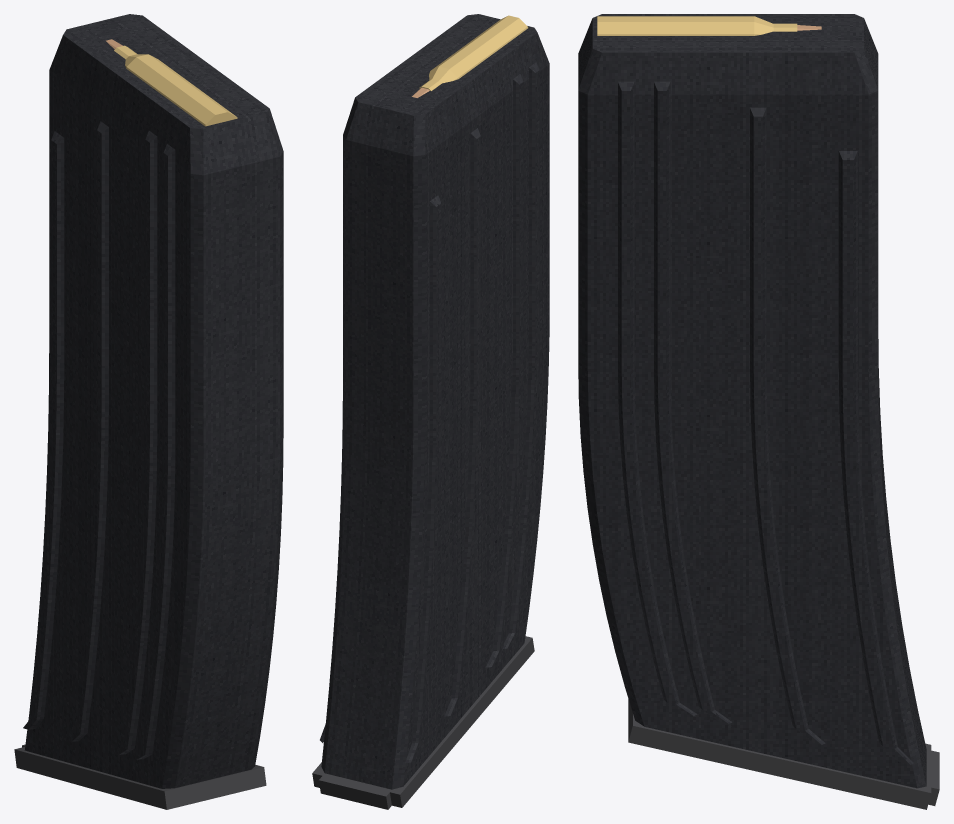
The model's file is stanag.glb.
The picture shows the model from 3 angles, left to right: view 1: azimuth 30°, elevation 25°; view 2: azimuth 150°, elevation 25°; view 3: azimuth 270°, elevation 25°; orthographic projection. The views are drawn at different scales.
Parts seen in each view (by area): view 1: Magazine; view 2: Magazine; view 3: Magazine.
Boxes of the visible parts, x1=… form: Magazine: x1=14, y1=14, x2=283, y2=809; Magazine: x1=312, y1=14, x2=549, y2=809; Magazine: x1=578, y1=14, x2=939, y2=809.
Size of the model in its own units: 0.025 by 0.1768 by 0.0759.
Materials: 5 (1 with a texture image).
